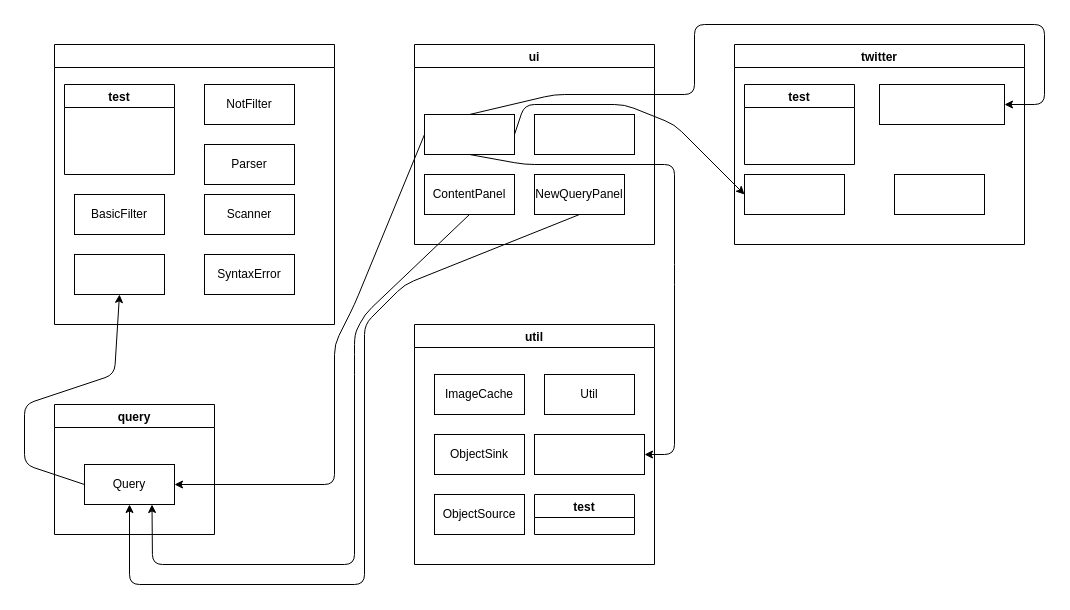
This 1070x610 diagram has some shape labels left out. The box of each missing label's shape, as (x1, y1, x2, y2) in pixels:
<<interface>> Filter: (74, 254, 164, 294)
<<interface>> TwitterSource: (894, 174, 984, 214)
Application: (424, 114, 514, 154)
filters: (54, 44, 334, 324)
LiveTwitterSource: (744, 174, 844, 214)
MapMarkerSimple: (534, 114, 634, 154)
PlayBackTwitterSource: (878, 84, 1004, 124)
SphericalGeometry: (534, 434, 644, 474)
